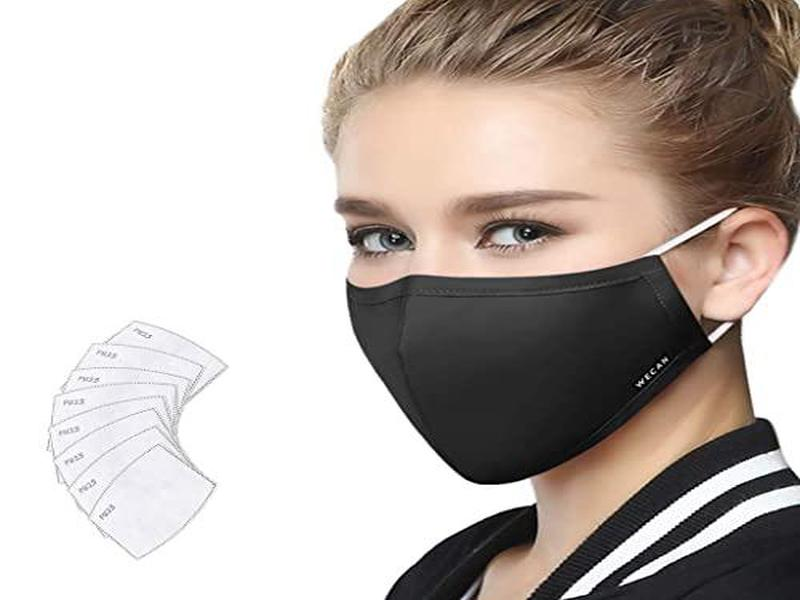with_mask: (329, 1, 800, 491)
